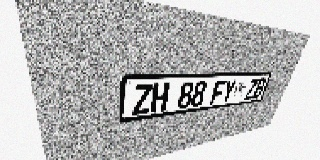8: (177, 81, 195, 109), (190, 81, 208, 107)
B: (252, 78, 267, 99)
F: (210, 80, 227, 104)
H: (150, 83, 170, 113)
Y: (220, 79, 237, 103)
Z: (132, 84, 153, 115), (244, 78, 259, 100)
